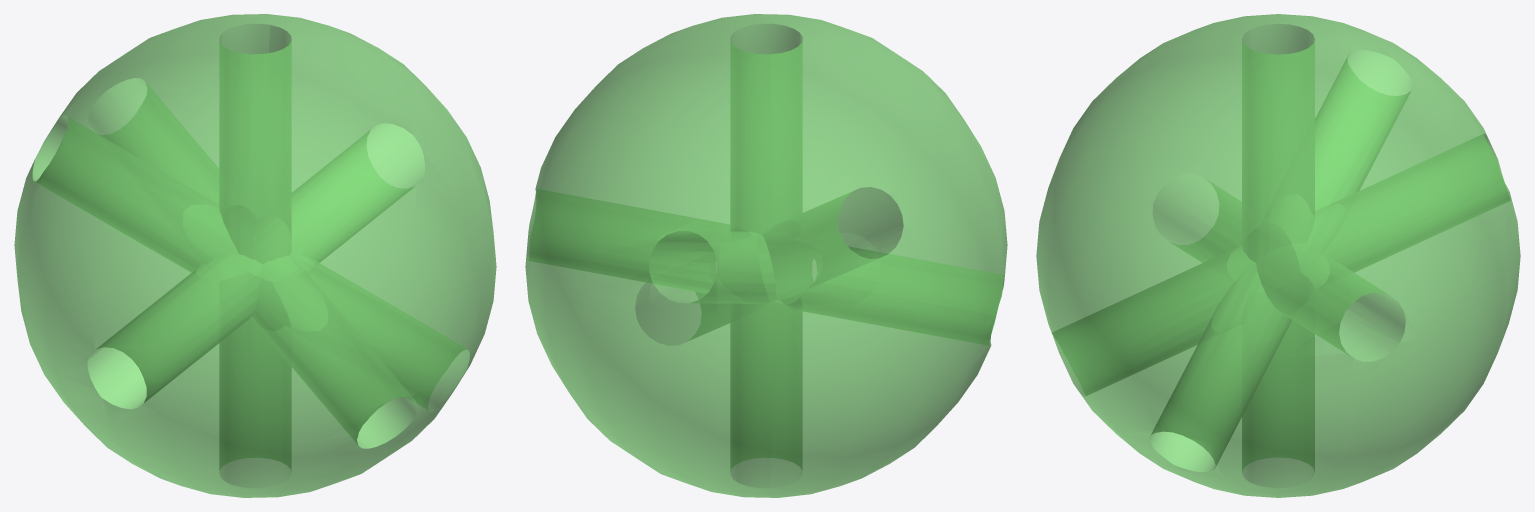
The model's file is tentaclepiece1.fbx.
The picture shows the model from 3 angles, left to right: view 1: azimuth 30°, elevation 25°; view 2: azimuth 150°, elevation 25°; view 3: azimuth 270°, elevation 25°; orthographic projection.
Visible parts, largest first — view 1: pSphere267; view 2: pSphere267; view 3: pSphere267.
Part boxes in pixels (left/top/right/bottom): pSphere267: left=14, top=14, right=496, bottom=497; pSphere267: left=525, top=14, right=1007, bottom=497; pSphere267: left=1036, top=14, right=1520, bottom=497.
Bounding box in the file's own units: 10 × 9.88 × 10.
